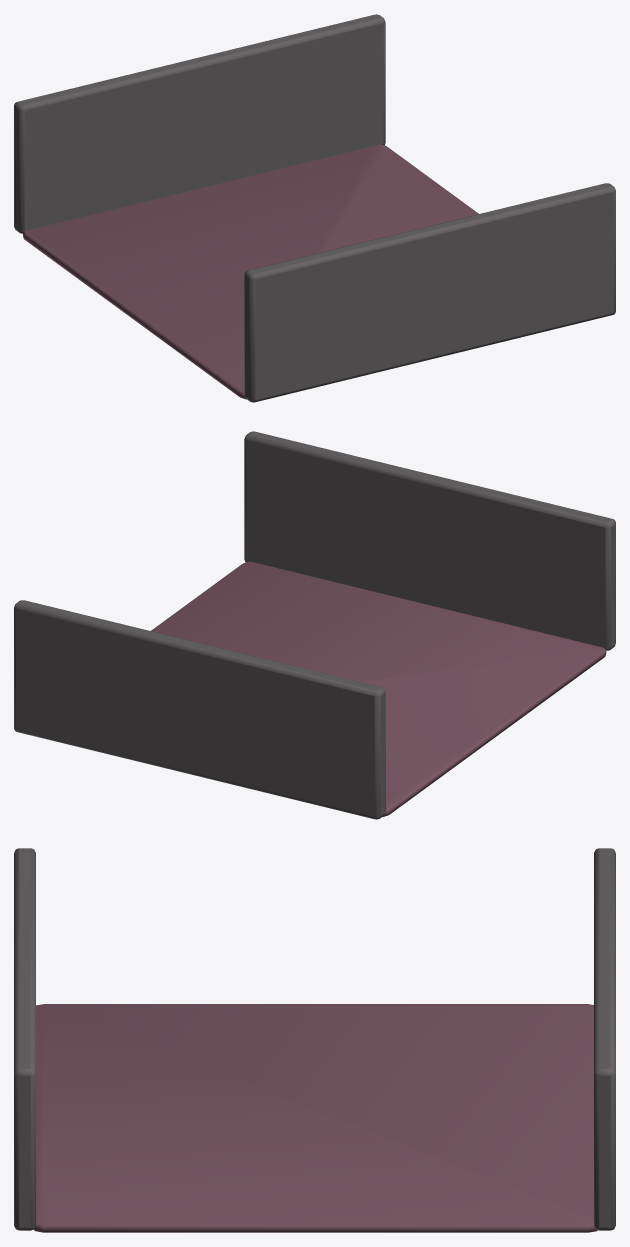
The model's file is CargoArea.fbx.
3 renders of one model, top to bottom at view 1: azimuth 30°, elevation 25°; view 2: azimuth 150°, elevation 25°; view 3: azimuth 270°, elevation 25°, orthographic. The views are drawn at different scales.
Parts seen in each view (by area): view 1: Plane.001; view 2: Plane.001; view 3: Plane.001.
Part boxes in pixels (bbox=[...]): Plane.001: bbox=[14, 14, 615, 402]; Plane.001: bbox=[14, 431, 615, 819]; Plane.001: bbox=[14, 848, 615, 1232].
Size of the model in its own units: 1289 by 437 by 1459.
